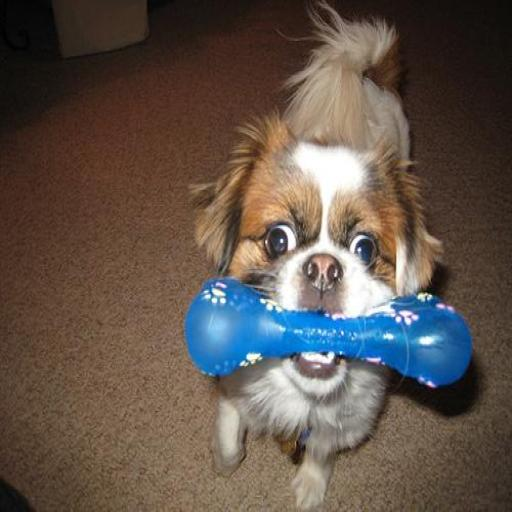dog_face: (197, 115, 437, 381)
